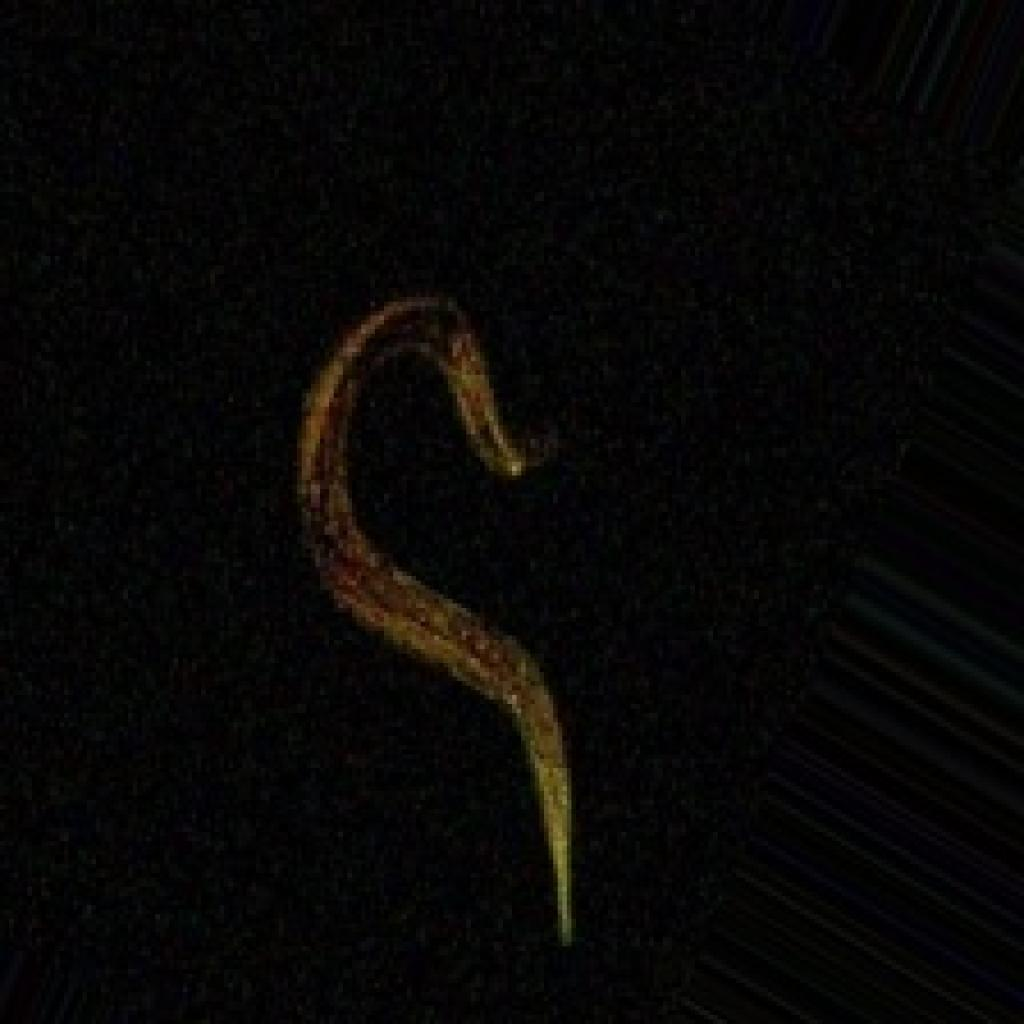Nematode: (0, 0, 1019, 1019), (288, 288, 585, 946)
